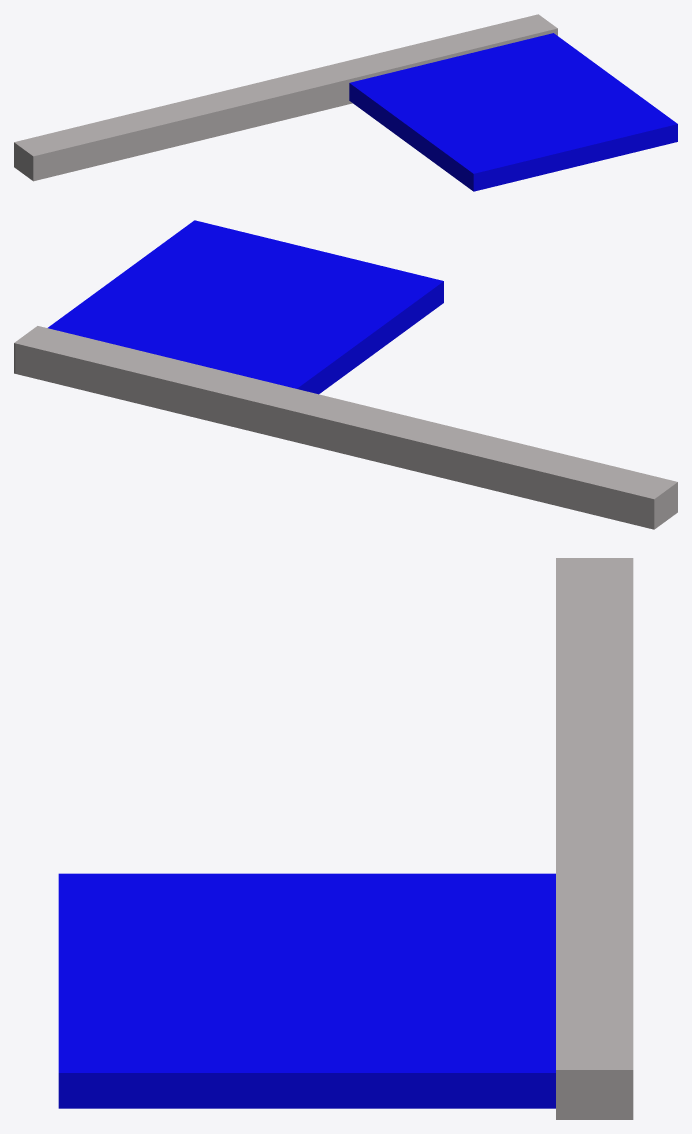
Rendered from flag_blue.gltf.
The picture shows the model from 3 angles, top to bottom: view 1: azimuth 30°, elevation 25°; view 2: azimuth 150°, elevation 25°; view 3: azimuth 270°, elevation 25°; orthographic projection. The views are drawn at different scales.
Parts seen in each view (by area): view 1: Cube; view 2: Cube; view 3: Cube.
Boxes of the visible parts, x1,y1,x2,y2 form: Cube: (14, 14, 677, 191); Cube: (14, 220, 677, 529); Cube: (58, 558, 633, 1119).
Size of the model in its own units: 4.54 by 0.2062 by 2.15.
Materials: 1 (1 with a texture image).
